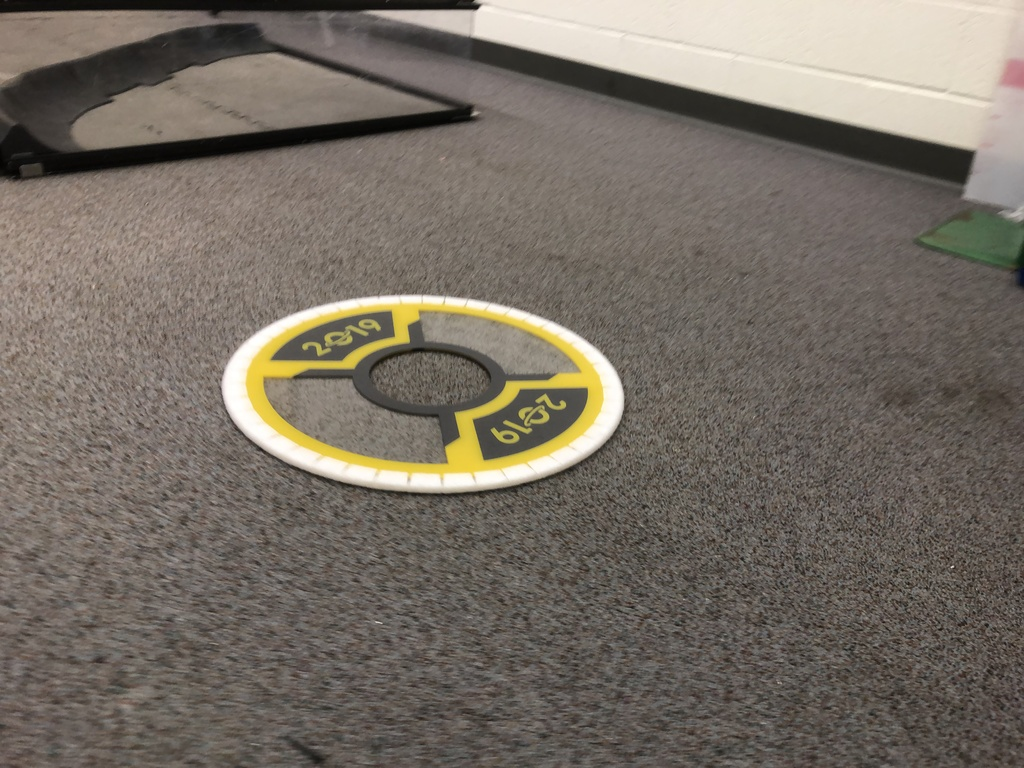hatch_panel: (209, 283, 640, 507)
